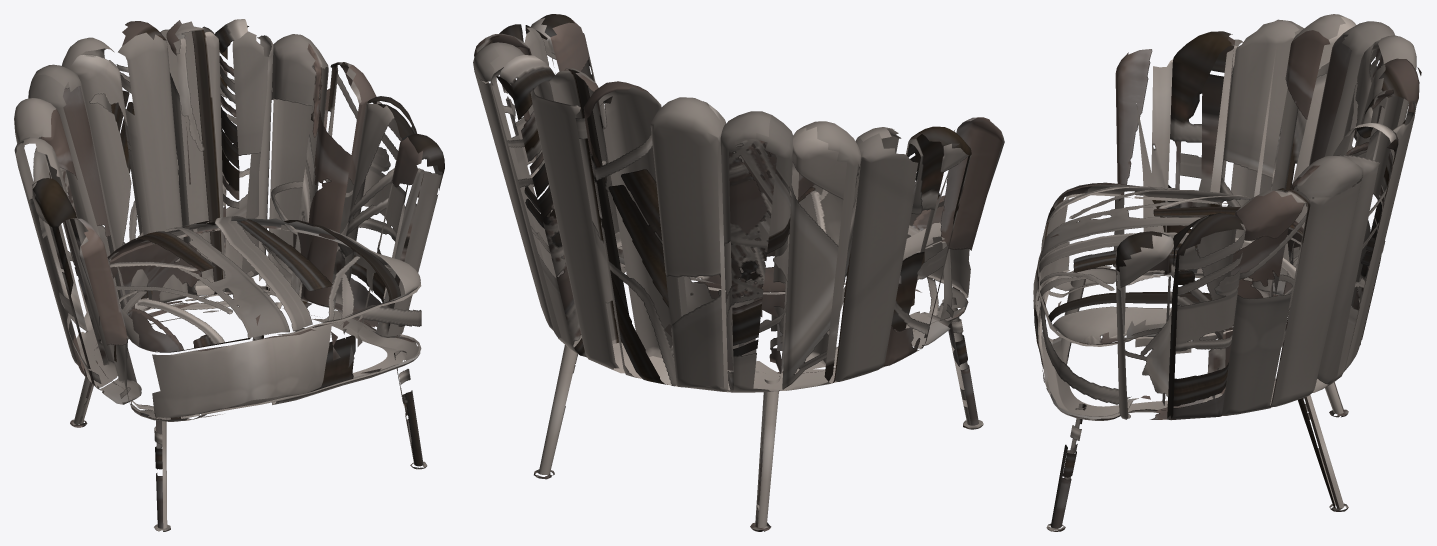
3 renders of one model, left to right at view 1: azimuth 30°, elevation 25°; view 2: azimuth 150°, elevation 25°; view 3: azimuth 270°, elevation 25°, orthographic. The views are drawn at different scales.
Parts seen in each view (by area): view 1: solid_002, solid_001; view 2: solid_002, solid_001; view 3: solid_002, solid_001.
Boxes of the visible parts, x1,y1,x2,y2 form: solid_002: (14, 19, 444, 421); solid_001: (70, 286, 427, 531); solid_002: (473, 14, 1004, 392); solid_001: (534, 297, 983, 531); solid_002: (1033, 14, 1421, 420); solid_001: (1046, 277, 1348, 531).
Bounding box in the file's own units: 1.41 × 1.3 × 1.15.
